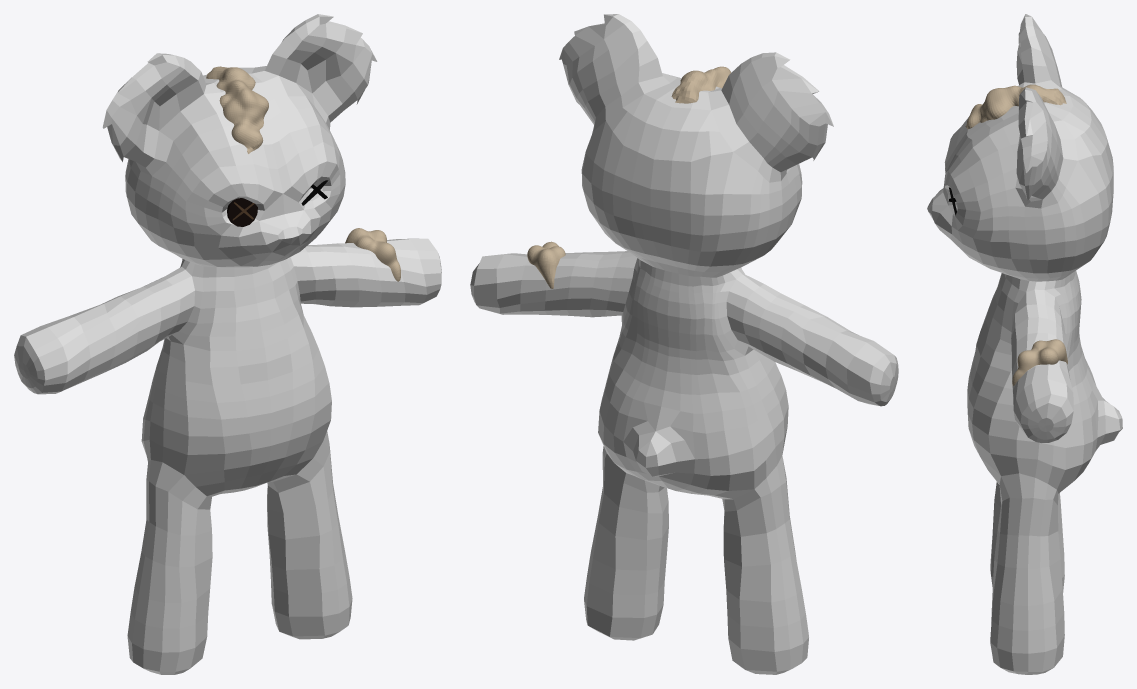
Rendered from Beer1.fbx.
3 renders of one model, left to right at view 1: azimuth 30°, elevation 25°; view 2: azimuth 150°, elevation 25°; view 3: azimuth 270°, elevation 25°, orthographic. The views are drawn at different scales.
Visible parts, largest first — view 1: Plane, PM3D_Sphere3D1, PM3D_Sphere3D1_1, Cylinder; view 2: Plane, PM3D_Sphere3D1, PM3D_Sphere3D1_1; view 3: Plane, PM3D_Sphere3D1, PM3D_Sphere3D1_1.
Part boxes in pixels (<box>): Plane: <box>14,14,441,674</box>; PM3D_Sphere3D1: <box>206,66,268,153</box>; PM3D_Sphere3D1_1: <box>345,228,400,281</box>; Cylinder: <box>227,198,257,226</box>; Plane: <box>470,14,898,674</box>; PM3D_Sphere3D1: <box>671,66,731,103</box>; PM3D_Sphere3D1_1: <box>527,241,565,288</box>; Plane: <box>927,14,1122,674</box>; PM3D_Sphere3D1: <box>965,84,1066,129</box>; PM3D_Sphere3D1_1: <box>1012,339,1067,385</box>.
Bounding box in the file's own units: 148 × 210 × 64.
